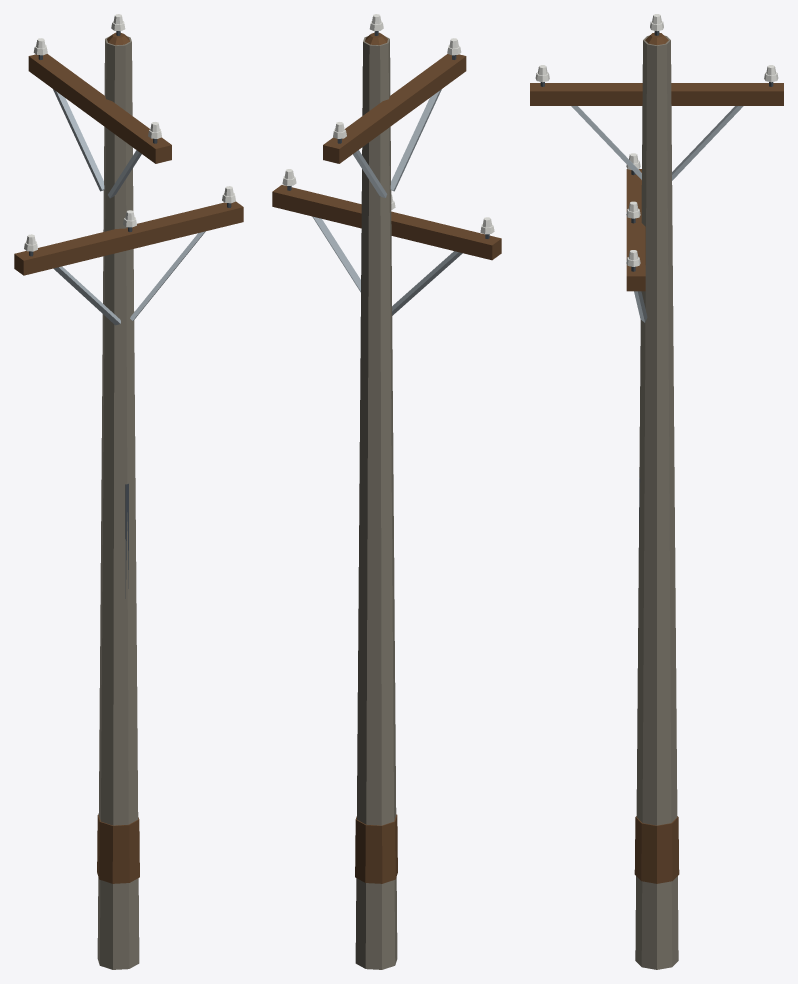
File: GL_UtilityPoleCorner_01.glb
3 views of the same model, side by side, from view 1: azimuth 30°, elevation 25°; view 2: azimuth 150°, elevation 25°; view 3: azimuth 270°, elevation 25° (orthographic).
Visible parts, largest first — view 1: GL_UtilityPoleCorner_01; view 2: GL_UtilityPoleCorner_01; view 3: GL_UtilityPoleCorner_01.
Part boxes in pixels (x1,y1,x2,y2): GL_UtilityPoleCorner_01: (14,14,243,969); GL_UtilityPoleCorner_01: (272,14,501,969); GL_UtilityPoleCorner_01: (530,14,783,969).
Bounding box in the file's own units: 2 × 8.22 × 2.
1 material, 1 textured.
